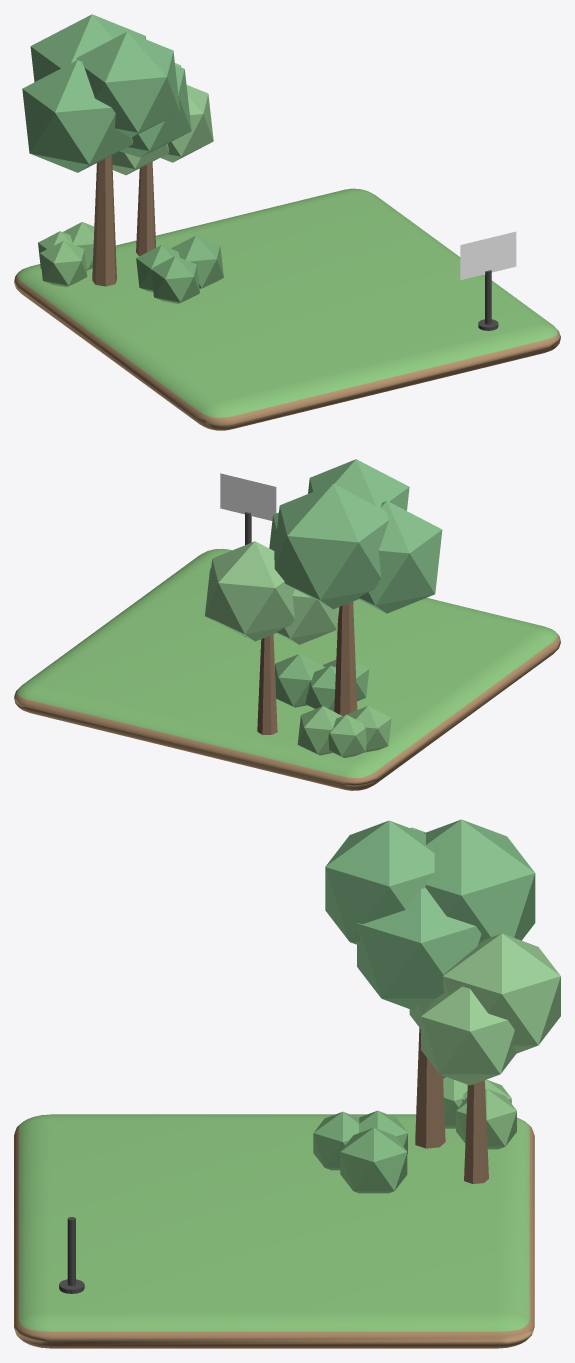
The picture shows the model from 3 angles, top to bottom: view 1: azimuth 30°, elevation 25°; view 2: azimuth 150°, elevation 25°; view 3: azimuth 270°, elevation 25°; orthographic projection. The views are drawn at different scales.
Parts seen in each view (by area): view 1: Island_Base, Tree_A_Leaf_0, Tree_A_Leaf_3, Tree_A_Leaf_2, Tree_A_Trunk, Photo_Screen, Tree_A_Leaf_1, Bush_A_3, Tree_B_Leaf_1, Bush_B_0, Bush_A_1, Tree_B_Trunk (+3 smaller); view 2: Island_Base, Tree_A_Leaf_2, Tree_B_Leaf_2, Tree_A_Leaf_0, Tree_A_Leaf_3, Tree_A_Trunk, Photo_Screen, Tree_B_Leaf_0, Bush_A_1, Tree_B_Trunk, Bush_B_1, Bush_B_2 (+3 smaller); view 3: Island_Base, Tree_A_Leaf_2, Tree_A_Leaf_1, Tree_A_Leaf_3, Tree_B_Leaf_2, Tree_B_Leaf_1, Bush_A_1, Tree_A_Trunk, Tree_B_Trunk, Bush_B_1, Bush_A_3, Bush_A_2 (+1 smaller).
Boxes of the visible parts, box(x1,y1,x2,y2) form: Island_Base: box(14, 188, 560, 430); Tree_A_Leaf_0: box(22, 60, 132, 172); Tree_A_Leaf_3: box(76, 32, 180, 137); Tree_A_Leaf_2: box(30, 14, 145, 82); Tree_A_Trunk: box(92, 155, 116, 286); Photo_Screen: box(460, 231, 516, 280); Tree_A_Leaf_1: box(119, 65, 191, 157); Bush_A_3: box(151, 256, 199, 303); Tree_B_Leaf_1: box(160, 85, 213, 162); Bush_B_0: box(40, 240, 87, 287); Bush_A_1: box(171, 235, 223, 289); Tree_B_Trunk: box(136, 162, 155, 255); Island_Base: box(14, 549, 560, 790); Tree_A_Leaf_2: box(274, 484, 388, 609); Tree_B_Leaf_2: box(206, 541, 294, 641); Tree_A_Leaf_0: box(359, 501, 442, 613); Tree_A_Leaf_3: box(308, 459, 409, 510); Tree_A_Trunk: box(334, 601, 357, 715); Photo_Screen: box(220, 473, 276, 520); Tree_B_Leaf_0: box(277, 589, 339, 644); Bush_A_1: box(275, 654, 325, 707); Tree_B_Trunk: box(257, 634, 277, 734); Bush_B_1: box(297, 706, 341, 755); Bush_B_2: box(328, 714, 366, 757); Island_Base: box(14, 1114, 534, 1348); Tree_A_Leaf_2: box(424, 819, 535, 942); Tree_A_Leaf_1: box(357, 888, 481, 1010); Tree_A_Leaf_3: box(325, 820, 434, 945); Tree_B_Leaf_2: box(443, 933, 560, 1053); Tree_B_Leaf_1: box(421, 986, 516, 1085); Bush_A_1: box(340, 1127, 407, 1193); Tree_A_Trunk: box(415, 1028, 445, 1148); Tree_B_Trunk: box(464, 1080, 488, 1183); Bush_B_1: box(456, 1089, 516, 1149); Bush_A_3: box(313, 1111, 359, 1170); Bush_A_2: box(359, 1110, 407, 1153).
Bounding box in the file's own units: 9.57 × 6.81 × 9.46.
